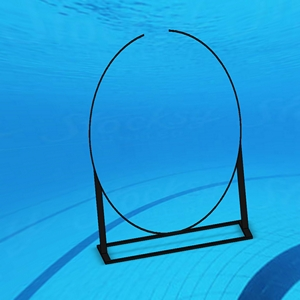circle: (87, 25, 263, 272)
